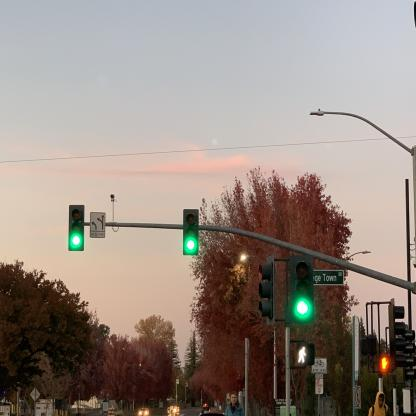green: (286, 250, 320, 328), (180, 204, 202, 260), (66, 201, 88, 256)
